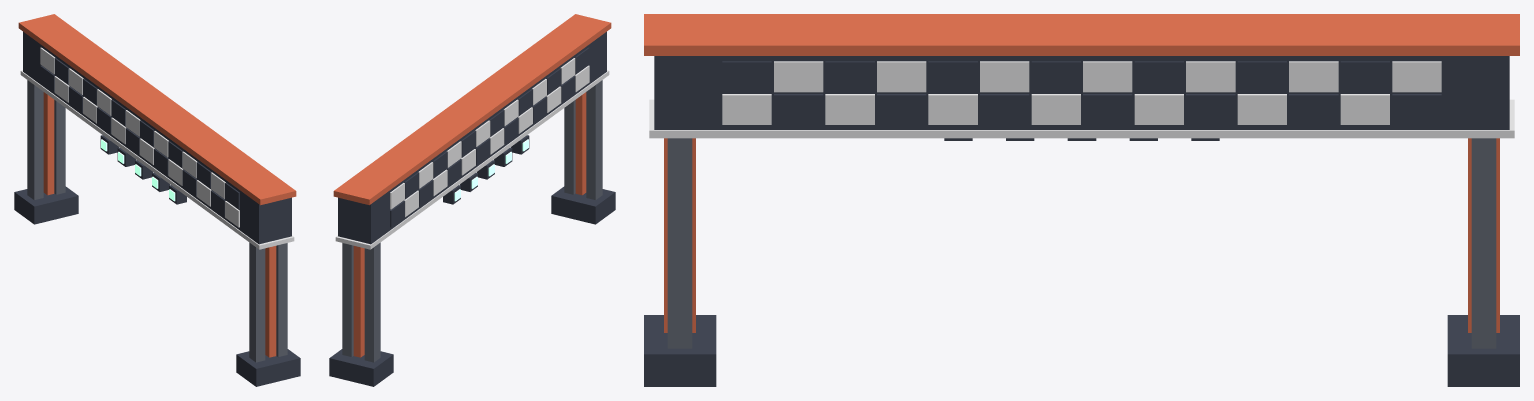
File: start-gantry.glb
The picture shows the model from 3 angles, left to right: view 1: azimuth 30°, elevation 25°; view 2: azimuth 150°, elevation 25°; view 3: azimuth 270°, elevation 25°; orthographic projection. The views are drawn at different scales.
Visible parts, largest first — view 1: Bridge_TopTrim, Bridge_Body, Pillar_A_R, Pillar_A_L, Base_R, Base_L, Bridge_BottomTrim, Pillar_B_R, Accent_R, Accent_L, Pillar_B_L, Check_F_2_0 (+27 smaller); view 2: Bridge_TopTrim, Bridge_Body, Pillar_A_L, Pillar_A_R, Base_L, Base_R, Bridge_BottomTrim, Pillar_B_L, Accent_L, Accent_R, Pillar_B_R, Check_F_0_0 (+27 smaller); view 3: Bridge_TopTrim, Bridge_Body, Bridge_BottomTrim, Pillar_B_L, Pillar_B_R, Base_L, Base_R, Check_B_0_1, Check_B_2_1, Check_B_4_1, Check_B_9_1, Check_B_11_1 (+25 smaller).
Part boxes in pixels (bbox=[...]): Bridge_TopTrim: bbox=[18, 14, 296, 205]; Bridge_Body: bbox=[23, 31, 291, 244]; Pillar_A_R: bbox=[249, 242, 265, 362]; Pillar_A_L: bbox=[27, 80, 43, 200]; Base_R: bbox=[236, 349, 300, 386]; Base_L: bbox=[14, 186, 78, 224]; Bridge_BottomTrim: bbox=[20, 70, 294, 249]; Pillar_B_R: bbox=[276, 243, 287, 356]; Accent_R: bbox=[265, 246, 276, 357]; Accent_L: bbox=[43, 92, 54, 195]; Pillar_B_L: bbox=[54, 100, 65, 194]; Check_F_2_0: bbox=[196, 180, 211, 206]; Bridge_TopTrim: bbox=[333, 14, 611, 205]; Bridge_Body: bbox=[338, 31, 606, 244]; Pillar_A_L: bbox=[364, 242, 380, 362]; Pillar_A_R: bbox=[586, 80, 602, 200]; Base_L: bbox=[329, 349, 393, 386]; Base_R: bbox=[551, 186, 615, 224]; Bridge_BottomTrim: bbox=[335, 70, 609, 249]; Pillar_B_L: bbox=[342, 243, 353, 356]; Accent_L: bbox=[353, 246, 364, 357]; Accent_R: bbox=[575, 92, 586, 195]; Pillar_B_R: bbox=[564, 100, 575, 194]; Check_F_0_0: bbox=[574, 65, 589, 92]; Bridge_TopTrim: bbox=[644, 14, 1519, 55]; Bridge_Body: bbox=[654, 56, 1509, 129]; Bridge_BottomTrim: bbox=[649, 99, 1514, 138]; Pillar_B_L: bbox=[1471, 138, 1496, 348]; Pillar_B_R: bbox=[667, 138, 692, 348]; Base_L: bbox=[1447, 315, 1519, 386]; Base_R: bbox=[644, 315, 716, 386]; Check_B_0_1: bbox=[722, 61, 771, 92]; Check_B_2_1: bbox=[825, 61, 874, 92]; Check_B_4_1: bbox=[928, 61, 977, 92]; Check_B_9_1: bbox=[1186, 61, 1235, 92]; Check_B_11_1: bbox=[1289, 61, 1338, 92].
Size of the model in its own units: 1.8 by 7.23 by 17.
